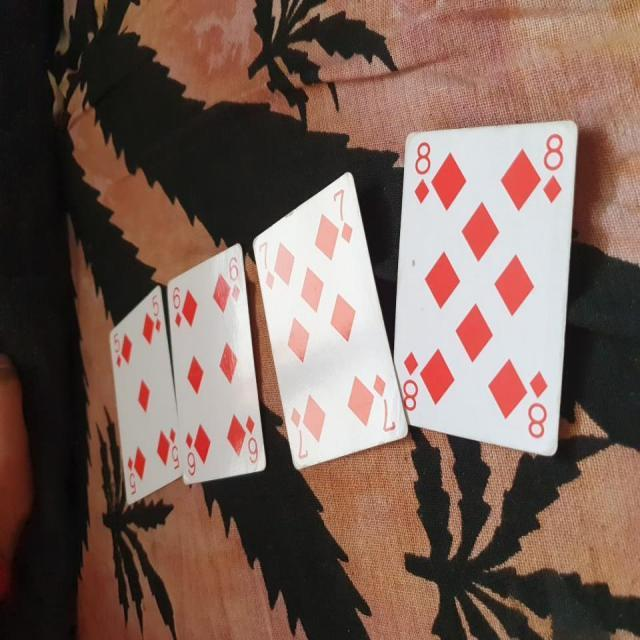5 of diamonds: (105, 284, 183, 510)
6 of diamonds: (164, 242, 268, 486)
7 of diamonds: (251, 166, 408, 470)
8 of diamonds: (393, 115, 578, 457)
